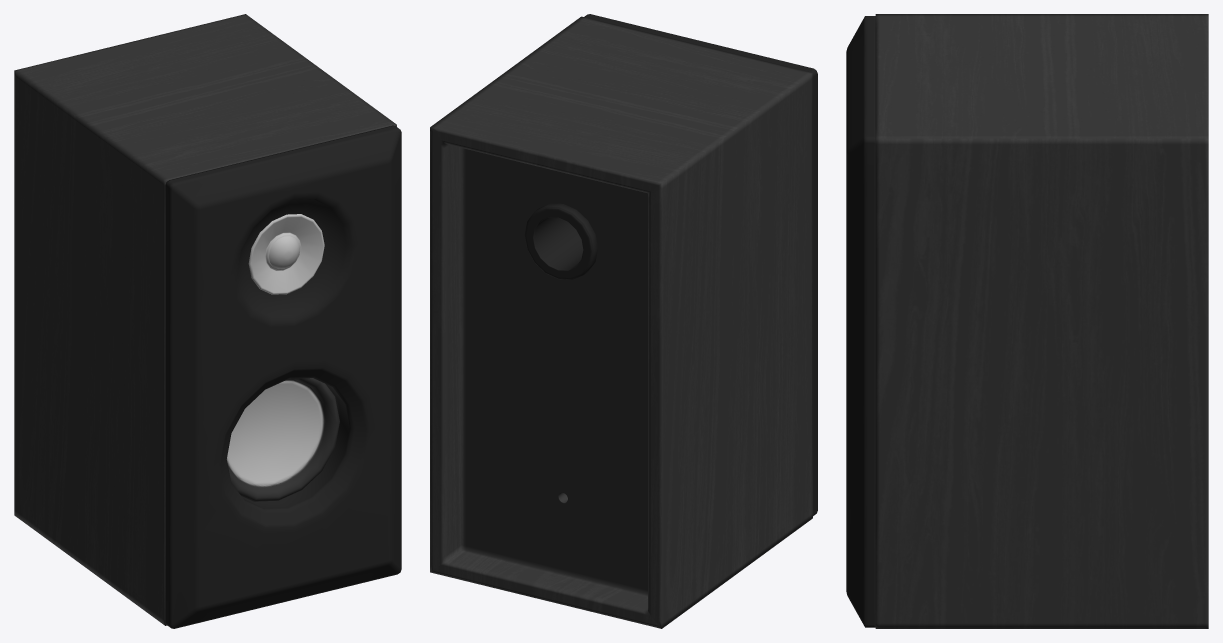
File: speaker.glb
3 renders of one model, left to right at view 1: azimuth 30°, elevation 25°; view 2: azimuth 150°, elevation 25°; view 3: azimuth 270°, elevation 25°, orthographic. The views are drawn at different scales.
Visible parts, largest first — view 1: Speaker; view 2: Speaker; view 3: Speaker.
Part boxes in pixels (x1,y1,x2,y2): Speaker: (14,14,401,628); Speaker: (430,14,817,628); Speaker: (846,14,1208,628).
Size of the model in its own units: 0.083 by 0.1535 by 0.1021.
1 material, 1 textured.
